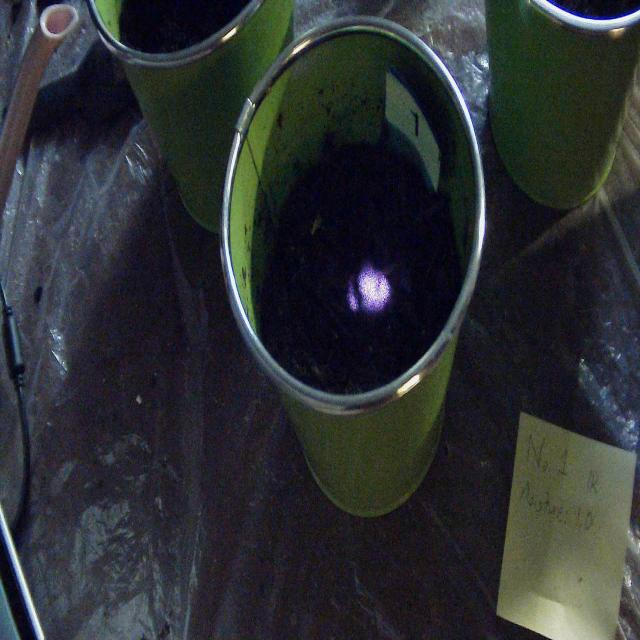soil-moisture-1.0: (348, 266, 391, 316)
